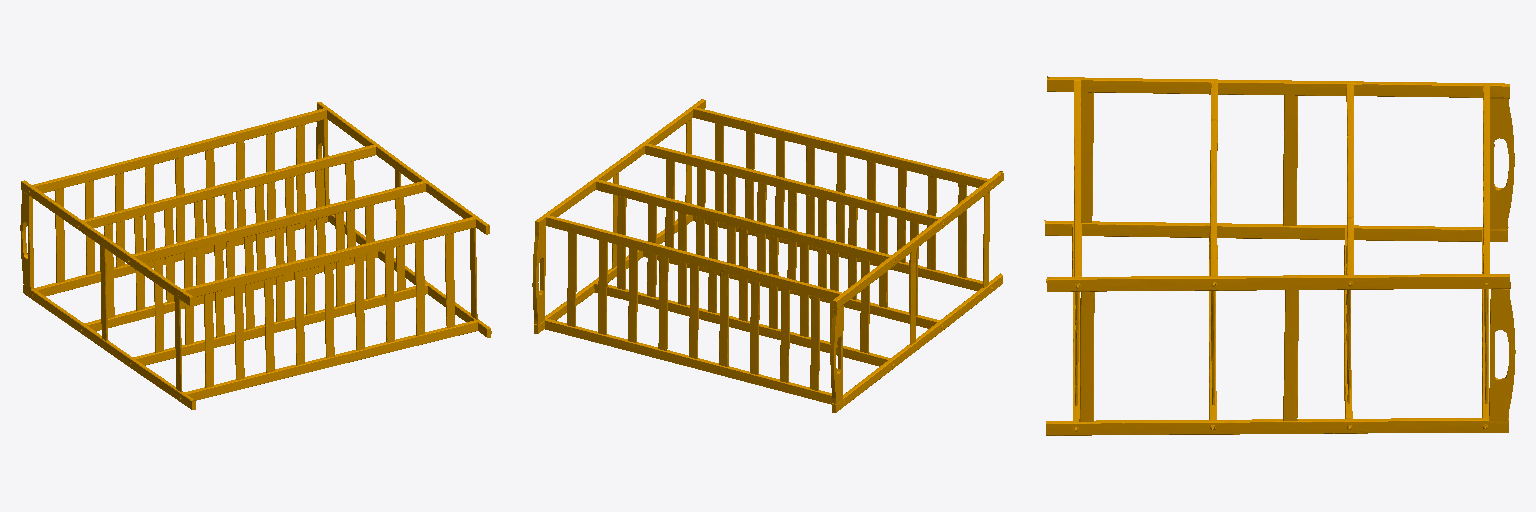
robot.urdf — shelf:
<?xml version="1.0" encoding="UTF-8"?>
<robot name="shelf">
  <link name="shelf_link">
    <visual><origin xyz="0 0 0" rpy="0 0 0"/><geometry><mesh filename="shelf.obj" scale="1 1 1"/></geometry></visual>
    <collision><origin xyz="0 0 0" rpy="0 0 0"/><geometry><mesh filename="shelf.obj" scale="1 1 1"/></geometry></collision>
  </link>
</robot>

--- Render facts (derived) ---
Views: 3 orthographic renders of the robot side by side, from view 1: azimuth 30°, elevation 25°; view 2: azimuth 150°, elevation 25°; view 3: azimuth 270°, elevation 25°.
Model shelf with 1 links and 0 joints (none), rooted at shelf_link, posed all joints at 0.
Visible links, largest first — view 1: shelf_link; view 2: shelf_link; view 3: shelf_link.
Boxes of the visible links, left/top/right/bottom form: shelf_link: left=20, top=102, right=491, bottom=409; shelf_link: left=532, top=99, right=1003, bottom=412; shelf_link: left=1044, top=76, right=1515, bottom=435.
Bounding box of the posed robot: 0.6746 × 0.6563 × 0.254 m (x, y, z).
1 mesh visuals loaded from 1 distinct referenced files (1 OBJ).
